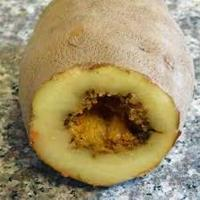biodegradable: (17, 0, 195, 187)
